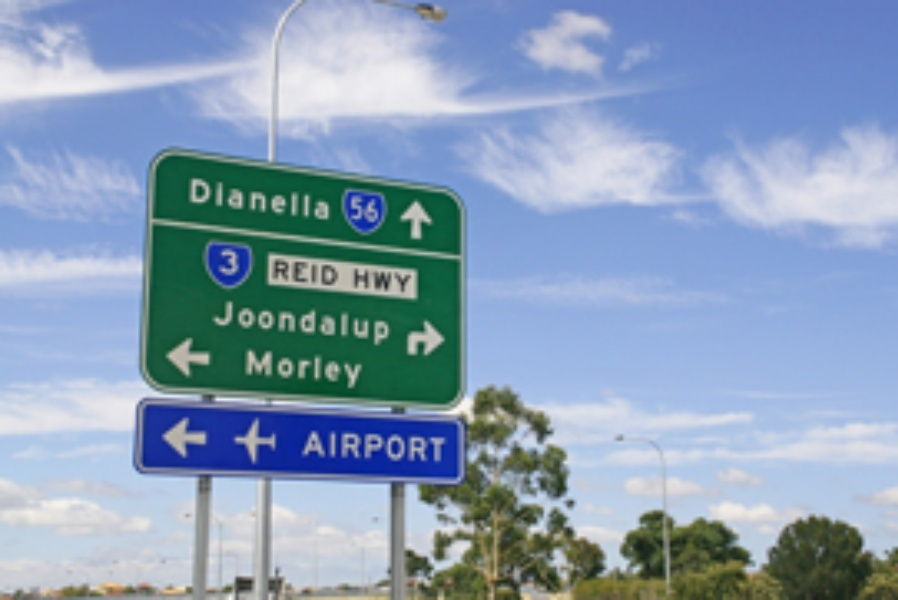text: (225, 296, 240, 349), (241, 296, 256, 349), (257, 296, 272, 349), (273, 296, 288, 349), (289, 296, 304, 349), (305, 296, 320, 349), (321, 296, 336, 349), (337, 296, 352, 349), (353, 296, 368, 349), (369, 296, 384, 349), (193, 173, 208, 219), (209, 173, 224, 219), (225, 173, 240, 219), (241, 173, 256, 219), (257, 173, 272, 219), (273, 173, 288, 219), (289, 173, 304, 219), (305, 173, 320, 219), (257, 345, 272, 388), (273, 345, 288, 388), (289, 345, 304, 388), (305, 345, 320, 388), (321, 345, 336, 388), (337, 345, 352, 388), (242, 345, 256, 388), (213, 296, 224, 349), (353, 345, 365, 388), (305, 431, 320, 465), (321, 431, 336, 465), (337, 431, 352, 465), (353, 431, 368, 465), (369, 431, 384, 465), (385, 431, 400, 465), (401, 431, 416, 465), (417, 431, 432, 465), (433, 431, 448, 465), (321, 173, 332, 219), (353, 193, 368, 226), (225, 246, 240, 279), (273, 256, 288, 286), (289, 256, 304, 286), (305, 256, 320, 286), (321, 256, 336, 286), (369, 193, 382, 226), (353, 266, 368, 292), (369, 266, 384, 292), (385, 266, 400, 292), (385, 296, 392, 349), (401, 266, 415, 292), (216, 246, 224, 279), (189, 173, 192, 219), (348, 193, 352, 226), (348, 266, 352, 292), (269, 256, 272, 286), (302, 431, 304, 465), (241, 246, 242, 279), (337, 256, 338, 286)
